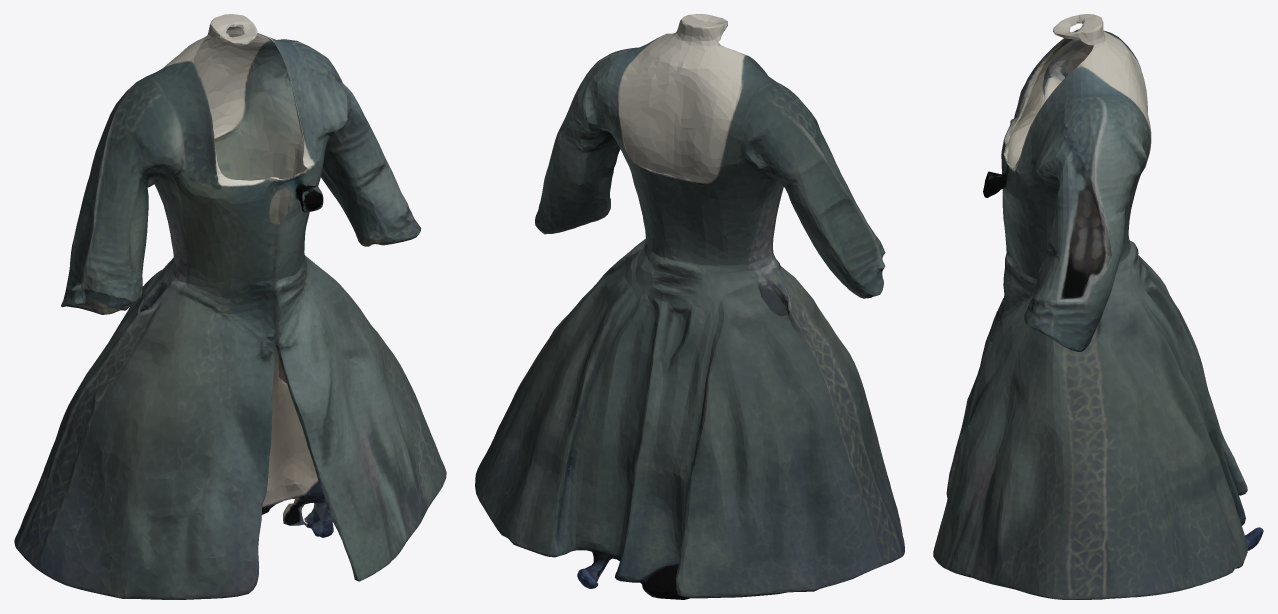
The picture shows the model from 3 angles, left to right: view 1: azimuth 30°, elevation 25°; view 2: azimuth 150°, elevation 25°; view 3: azimuth 270°, elevation 25°; orthographic projection.
Visible parts, largest first — view 1: world; view 2: world; view 3: world.
Part boxes in pixels (x1,y1,x2,y2): world: (14,14,446,599); world: (475,14,904,599); world: (933,14,1263,599).
Bounding box in the file's own units: 0.8137 × 0.9993 × 0.583.
Materials: 1 (1 with a texture image).
